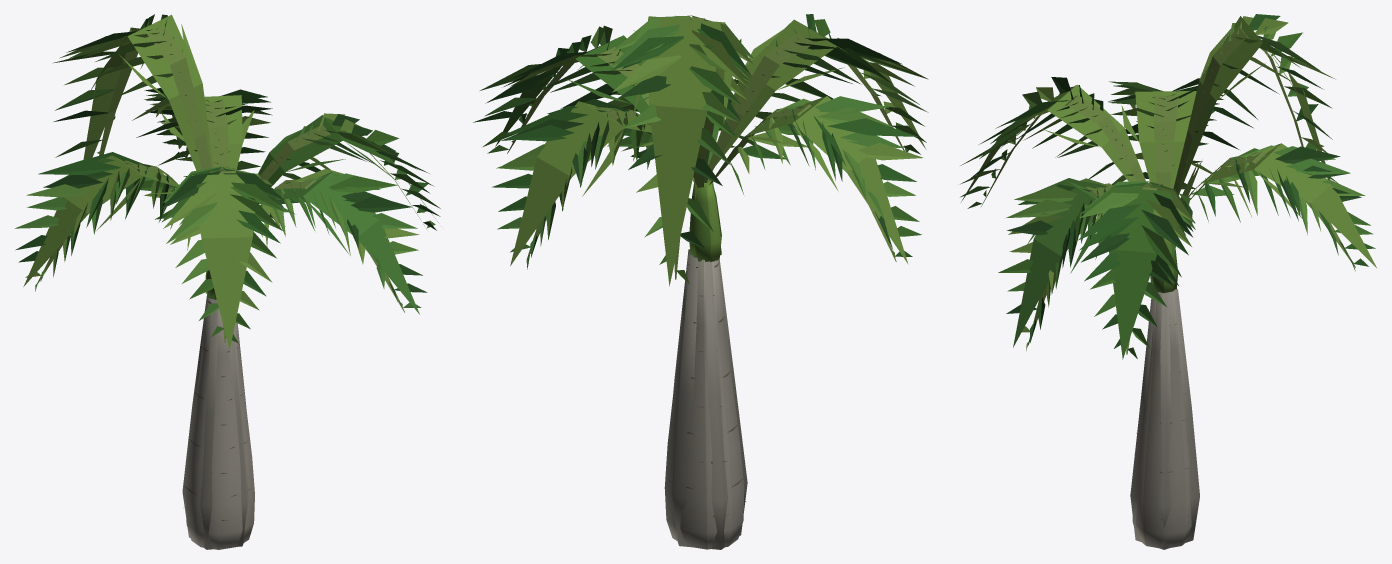
Rendered from sg-bottle-palm.glb.
3 renders of one model, left to right at view 1: azimuth 30°, elevation 25°; view 2: azimuth 150°, elevation 25°; view 3: azimuth 270°, elevation 25°, orthographic. The views are drawn at different scales.
Visible parts, largest first — view 1: lod0_fronds, lod1_fronds, lod0_trunk, lod1_trunk; view 2: lod0_fronds, lod1_fronds, lod0_trunk, lod1_trunk, lod0_crownshaft; view 3: lod0_fronds, lod1_fronds, lod0_trunk, lod1_trunk.
Part boxes in pixels (x1,y1,x2,y2): lod0_fronds: [14, 14, 440, 343]; lod1_fronds: [23, 14, 438, 349]; lod0_trunk: [184, 298, 254, 549]; lod1_trunk: [182, 294, 248, 549]; lod0_fronds: [473, 14, 928, 284]; lod1_fronds: [495, 16, 925, 286]; lod0_trunk: [664, 253, 745, 549]; lod1_trunk: [671, 249, 747, 549]; lod0_crownshaft: [689, 183, 721, 262]; lod0_fronds: [960, 14, 1375, 358]; lod1_fronds: [961, 16, 1376, 359]; lod0_trunk: [1132, 292, 1192, 548]; lod1_trunk: [1130, 289, 1199, 549].
Size of the model in its own units: 3.62 by 4.3 by 3.31.
